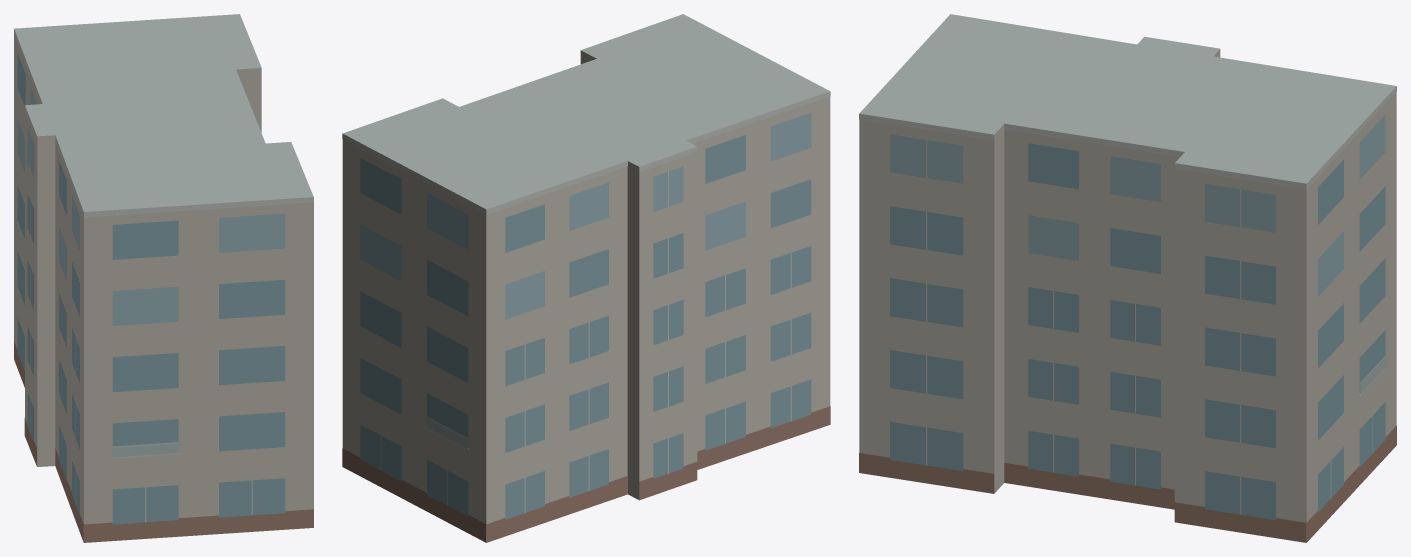
Rendered from survey-upis-32868497.glb.
The picture shows the model from 3 angles, left to right: view 1: azimuth 30°, elevation 25°; view 2: azimuth 150°, elevation 25°; view 3: azimuth 270°, elevation 25°; orthographic projection. The views are drawn at different scales.
Visible parts, largest first — view 1: survey-upis-32868497.tmp; view 2: survey-upis-32868497.tmp; view 3: survey-upis-32868497.tmp.
Boxes of the visible parts, x1=… form: survey-upis-32868497.tmp: x1=14, y1=14, x2=313, y2=542; survey-upis-32868497.tmp: x1=342, y1=14, x2=830, y2=542; survey-upis-32868497.tmp: x1=859, y1=14, x2=1396, y2=542.
Bounding box in the file's own units: 15.3 × 15.1 × 20.49.
